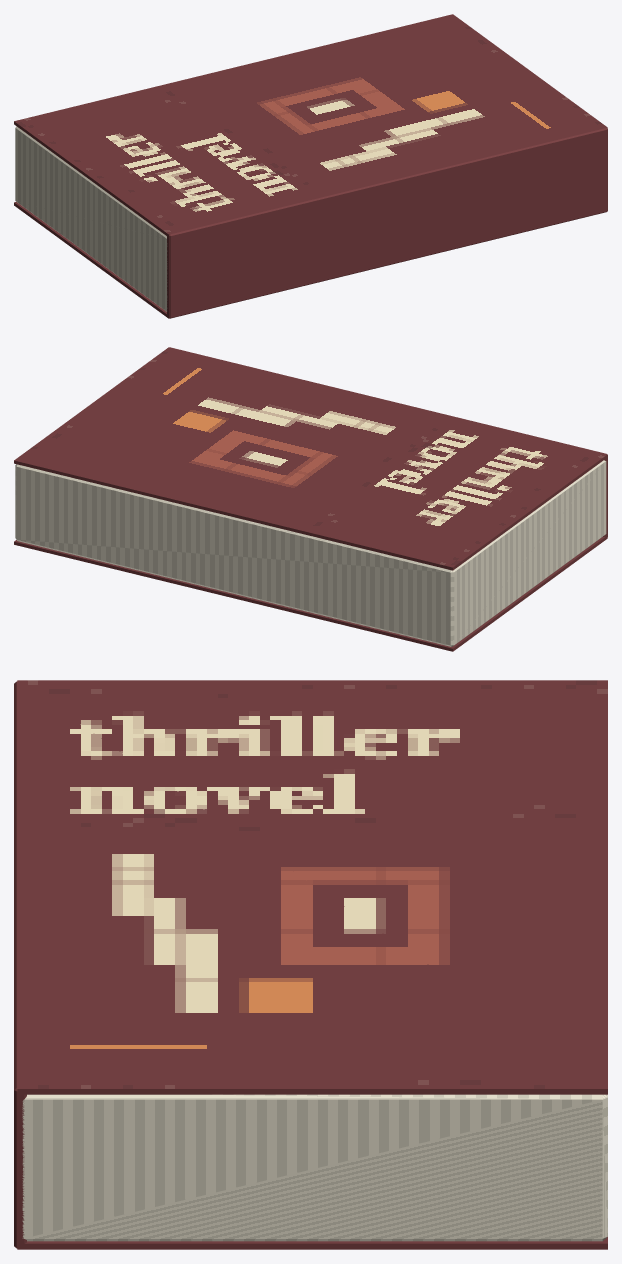
File: novel_thriller.glb
The picture shows the model from 3 angles, top to bottom: view 1: azimuth 30°, elevation 25°; view 2: azimuth 150°, elevation 25°; view 3: azimuth 270°, elevation 25°; orthographic projection. The views are drawn at different scales.
Parts seen in each view (by area): view 1: block_front, block_spine, block_pages, block_back; view 2: block_front, block_pages, block_back, block_spine; view 3: block_front, block_pages, block_spine, block_back.
Boxes of the visible parts, x1,y1,x2,y2 form: block_front: (14, 14, 607, 237); block_spine: (167, 128, 607, 318); block_pages: (15, 126, 167, 311); block_back: (14, 202, 607, 318); block_front: (14, 347, 607, 570); block_pages: (15, 460, 606, 646); block_back: (14, 536, 607, 651); block_spine: (168, 347, 607, 536); block_front: (17, 680, 607, 1094); block_pages: (22, 1094, 607, 1241); block_spine: (14, 681, 26, 1248); block_back: (17, 1237, 607, 1249).
Bounding box in the file's own units: 0.18 × 0.033 × 0.1106.
1 material, 1 textured.
